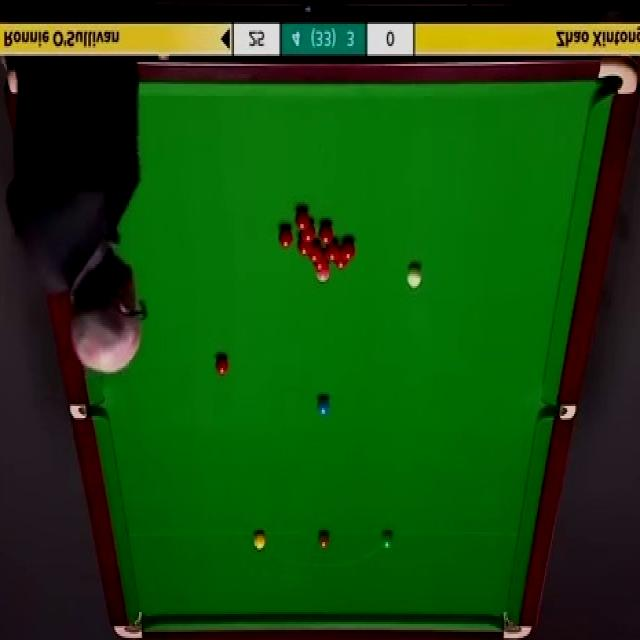pocket: (596, 60, 638, 100), (109, 606, 145, 640), (498, 608, 533, 640), (537, 405, 578, 420), (67, 405, 105, 420)
